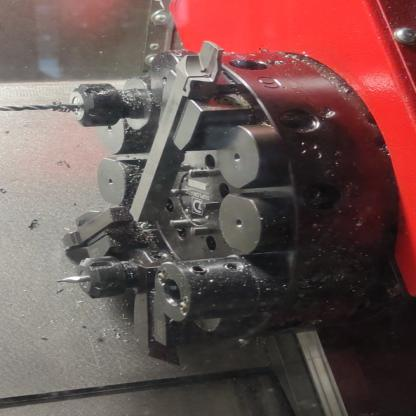bit: (121, 35, 267, 230), (126, 256, 199, 372), (55, 200, 146, 266)
